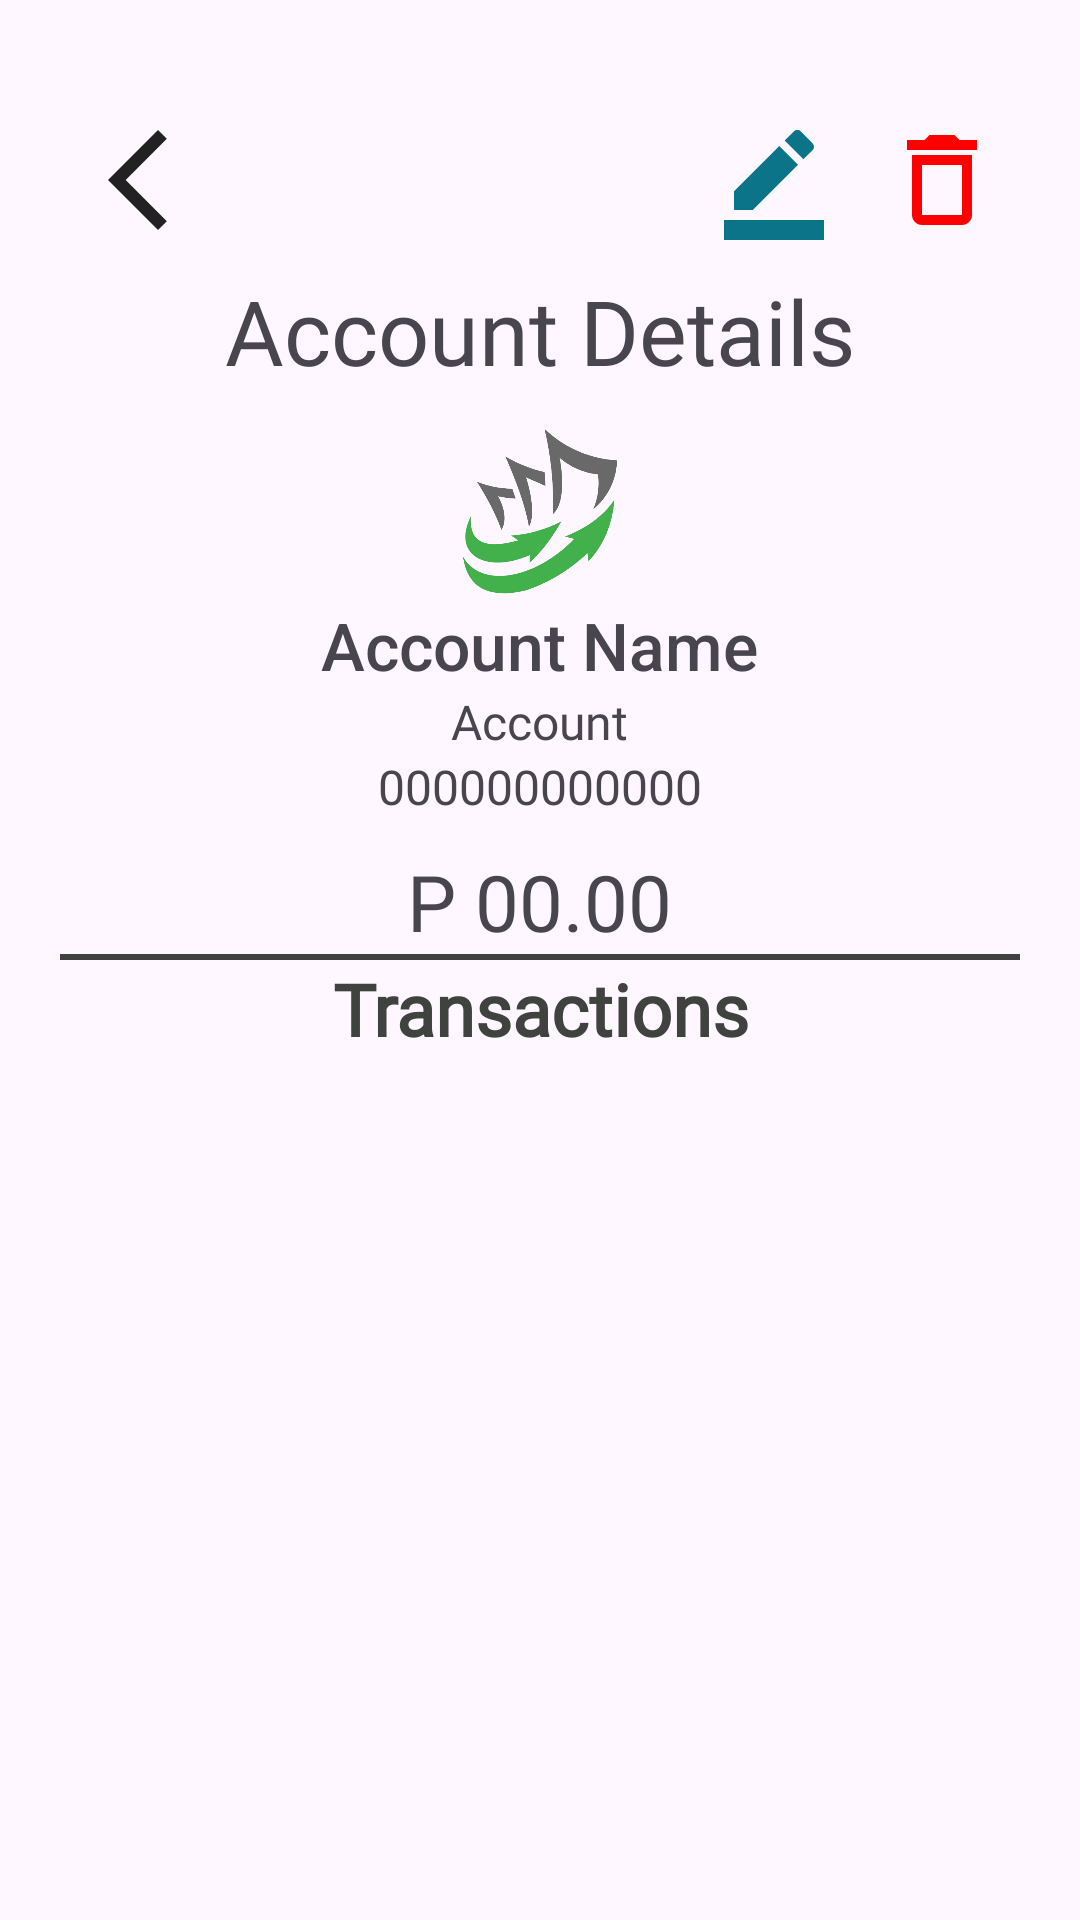

Screen size 1080×1920. Icon name, then its box in pixels as (x1,y1,x2,y2):
Back Button: (108,130,167,230)
Delete Button: (907,135,977,225)
Edit Button: (724,130,824,240)
